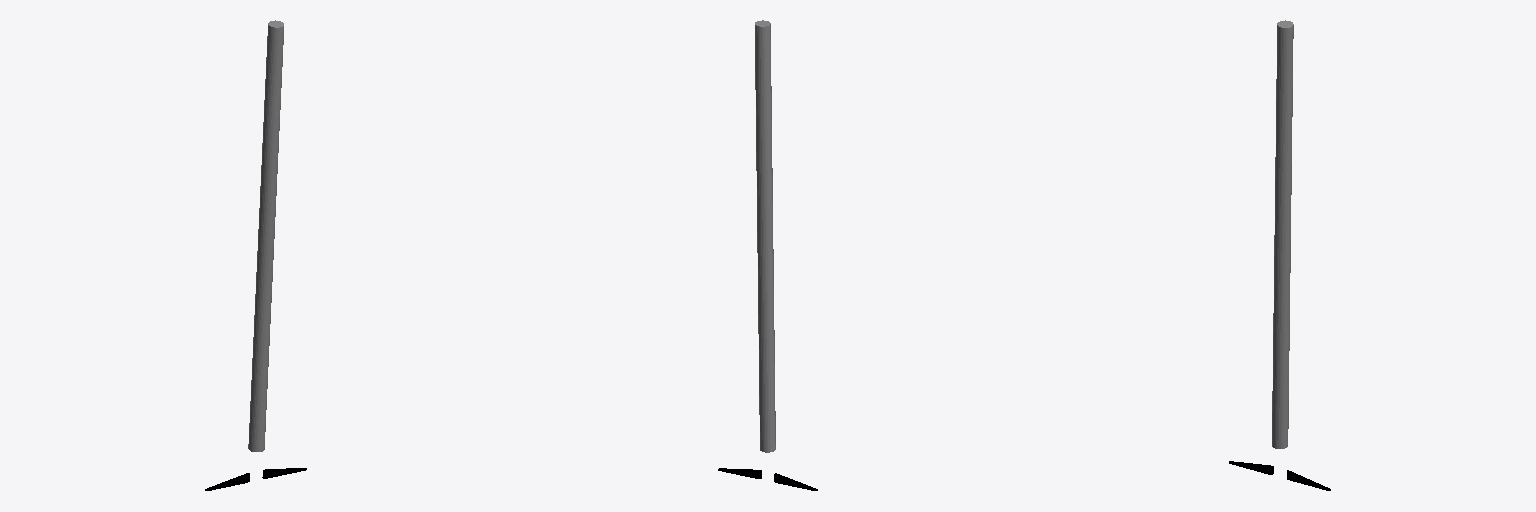
The robot description file, URDF, robot "Dustpan_4":
<?xml version="1.0"?>
<robot name="Dustpan_4">
    <link name="dustpan_body">
        <inertial>
            <origin xyz="0.0000 0.0 0.37500" rpy="-3.141593 3.141593 -3.141593" />
            <inertia ixz="0" ixy="0" ixx="20" izz="5" iyz="0" iyy="20" />
            <mass value="50" />
        </inertial>
	<!--	<collision name="Dustpan_4">
	    <origin xyz="-0.01 0.03 0.0005" rpy="-3.141593 3.141593 -3.141593" />
	    <geometry>
		<box size="0.275 0.225 0.0000001" />
	    </geometry>
	</collision> -->
	<collision name="Dustpan_4">
            <origin rpy="-3.141593 3.141593 -3.141593" xyz="-0.150000 0.030000 0.050000" />
            <geometry>
                <box size="0.005000 0.225000 0.100000" />
            </geometry>
        </collision>
        <collision name="Dustpan_4">
            <origin xyz="0.125000 0.030000 0.050000" rpy="-3.141593 3.141593 -3.141593" />
            <geometry>
                <box size="0.005000 0.225000 0.100000" />
            </geometry>
        </collision>
        <collision name="Dustpan_4">
            <origin xyz="-0.012500 -0.085000 0.050000" rpy="-3.141593 3.141593 -3.141593" />
            <geometry>
                <box size="0.275000 0.005000 0.100000" />
            </geometry>
        </collision>
        <collision name="Dustpan_4">
            <origin rpy="-3.141593 3.141593 -3.141593" xyz="-0.012500 -0.035000 0.085000" />
            <geometry>
                <box size="0.275000 0.100000 0.010000" />
            </geometry>
        </collision>
        <collision name="Dustpan_5">
            <origin xyz="0.000049 -0.000026 0.386261" rpy="3.099872 3.129058 1.082189" />
            <geometry>
                <cylinder radius="0.015" length="0.65" />
            </geometry>
        </collision>
        <visual name="Dustpan_4">
            <origin xyz="-0.010294 0.028828 0.050338" rpy="-0.004184 4.681718 -3.137595" />
            <geometry>
                <mesh filename="dustpan_robot_base_vis_1.dae" />
            </geometry>
            <material name="robot_base_material">
                <color rgba="0.100000 0.100000 0.100000 1.0" />
            </material>
        </visual>
        <visual name="Dustpan_3">
            <origin xyz="-0.009350 0.009472 0.050978" rpy="-2.360428 4.669018 2.359958" />
            <geometry>
                <mesh filename="dustpan_Dustpan_3_vis_1.dae" />
            </geometry>
            <material name="Dustpan_3_material">
                <color rgba="0.000000 0.000000 0.000000 1.0" />
            </material>
        </visual>
        <collision name="Dustpan_5">
            <origin xyz="0.000049 -0.000026 0.386261" rpy="3.099872 3.129058 1.082189" />
            <geometry>
                <cylinder radius="0.015" length="0.65" />
            </geometry>
        </collision>
        <visual name="Dustpan_5">
            <origin xyz="0.000049 -0.000026 0.386261" rpy="3.099872 3.129058 1.082189" />
            <geometry>
                <mesh filename="dustpan_Dustpan_5_vis_1.dae" />
            </geometry>
            <material name="Dustpan_5_material">
                <color rgba="0.588200 0.588200 0.588200 1.0" />
            </material>
        </visual>
    </link>
</robot>

--- Render facts (derived) ---
The picture shows the robot from 3 angles, left to right: view 1: azimuth 30°, elevation 25°; view 2: azimuth 150°, elevation 25°; view 3: azimuth 330°, elevation 25°; orthographic projection.
Model Dustpan_4 with 1 links and 0 joints (none), rooted at dustpan_body, posed all joints at 0.
Links seen in each view (by area): view 1: dustpan_body; view 2: dustpan_body; view 3: dustpan_body.
Link boxes in pixels (x1,y1,x2,y2): dustpan_body: (205,20,306,490); dustpan_body: (718,20,817,490); dustpan_body: (1229,20,1330,490).
Size in the robot's own frame: 0.1474 by 0.0388 by 0.6416 metres.
Meshes: 3 distinct files referenced, 2 mesh visuals loaded (2 Collada DAE); not drawn: 1 (reference not matched to a file when rendering).
